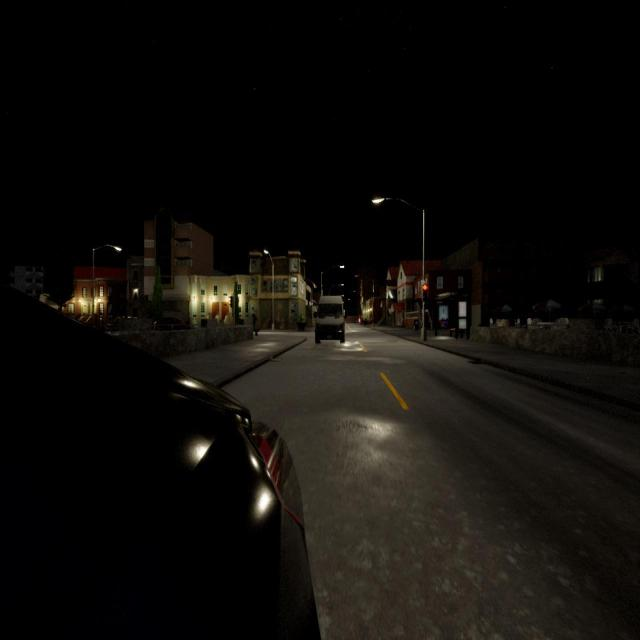Pedestrian: (250, 306, 258, 336)
Vehicle: (0, 286, 319, 638), (313, 296, 347, 344), (105, 313, 139, 330), (151, 317, 193, 330)
traffic_light: (423, 284, 428, 303)
